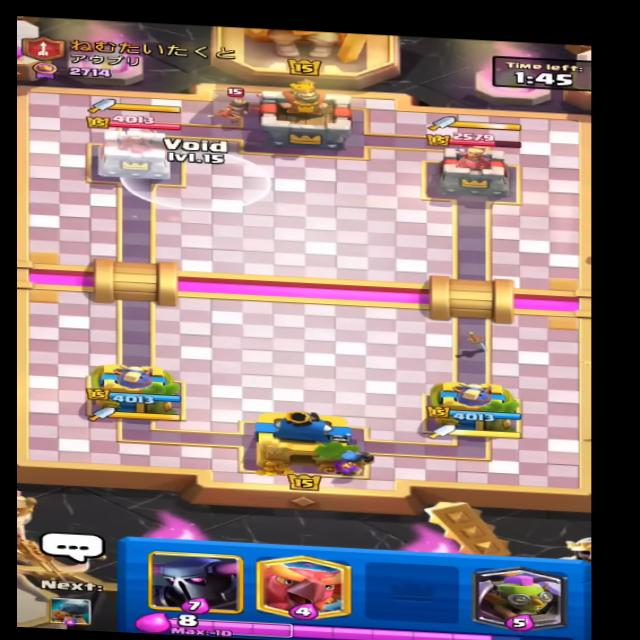princess: (212, 92, 254, 125)
